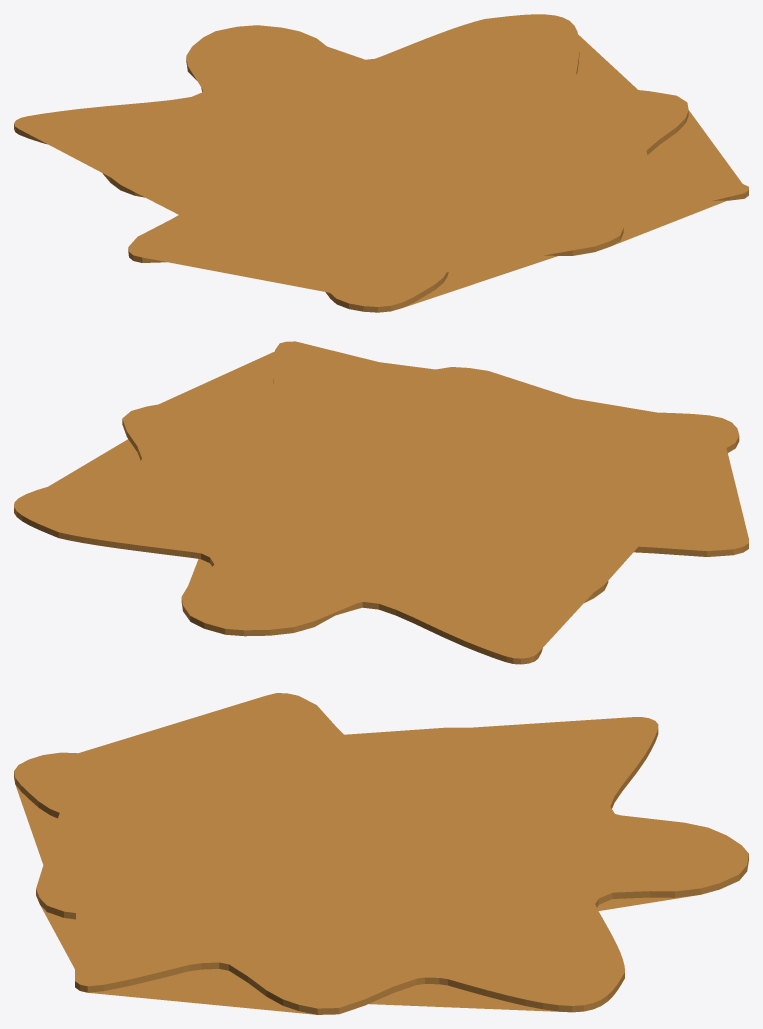
File: sauce.fbx
3 views of the same model, one above another, from view 1: azimuth 30°, elevation 25°; view 2: azimuth 150°, elevation 25°; view 3: azimuth 270°, elevation 25° (orthographic). The views are drawn at different scales.
Parts seen in each view (by area): view 1: Cube; view 2: Cube; view 3: Cube.
Part boxes in pixels (<box>): Cube: <box>14,14,748,312</box>; Cube: <box>14,341,748,664</box>; Cube: <box>14,693,748,1014</box>.
Size of the model in its own units: 380 by 3.59 by 374.
